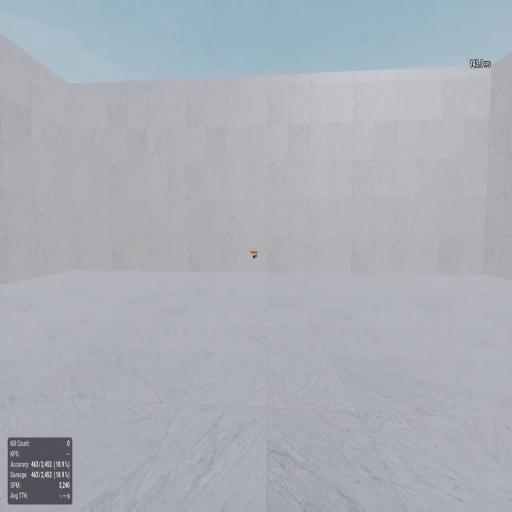Crosshair: (255, 254, 257, 258)
Target: (253, 254, 255, 259)
